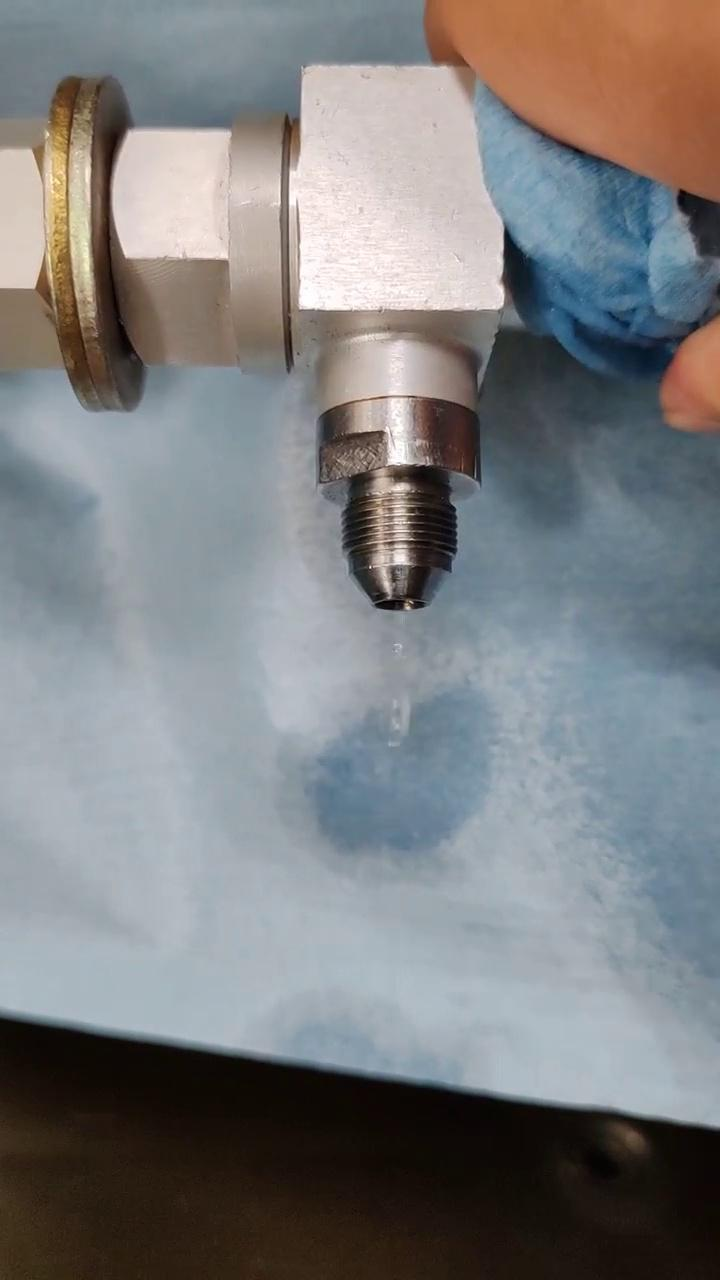water drop: (385, 689, 411, 747)
